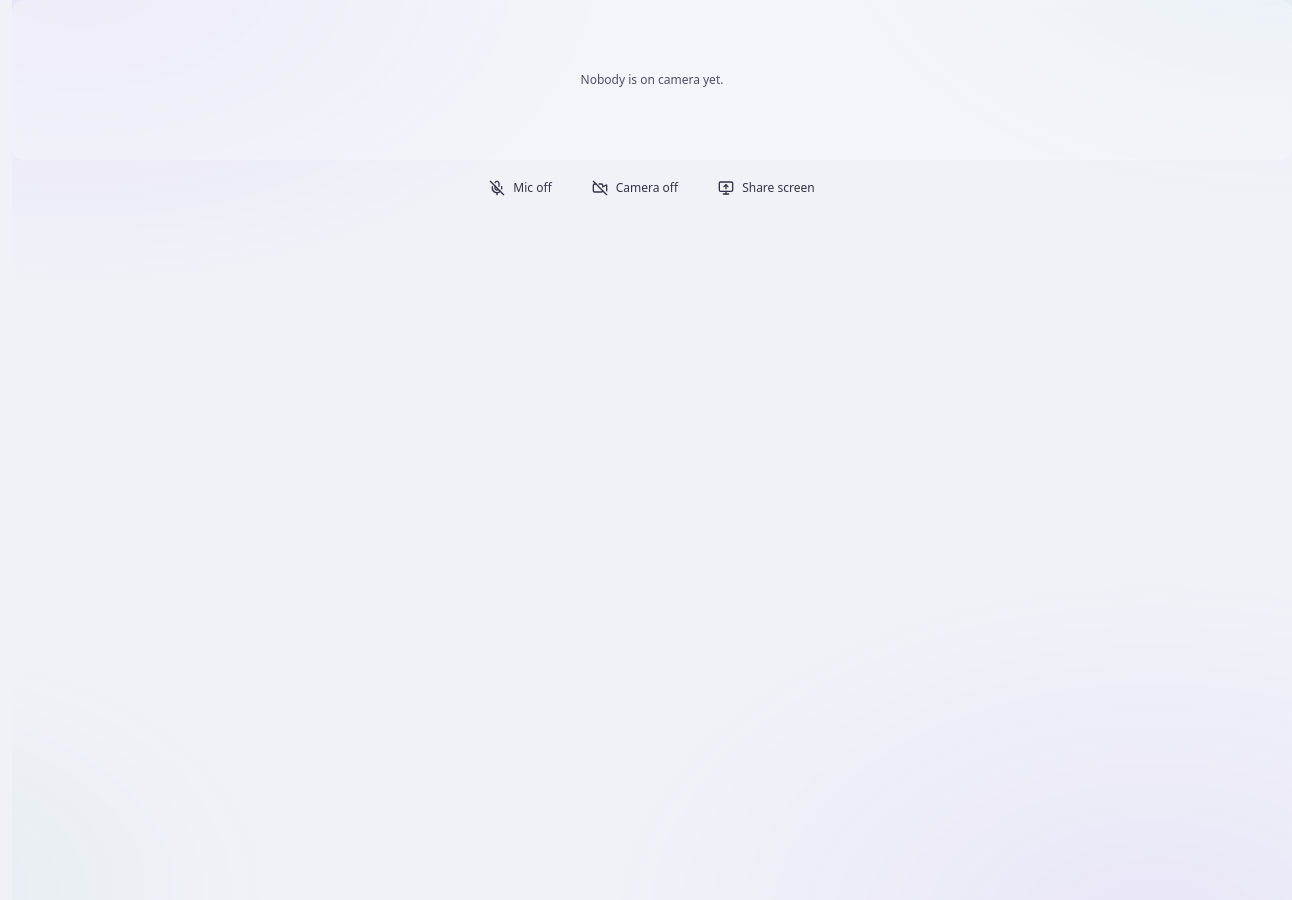
Test: GuestVideoStage screen sharing › keeps a browser screen-share rejection inline
What coordinates should you click on to do the following:
click the button "Share screen"
I would click on:
 (766, 188)
Its box is [702,168,831,208].
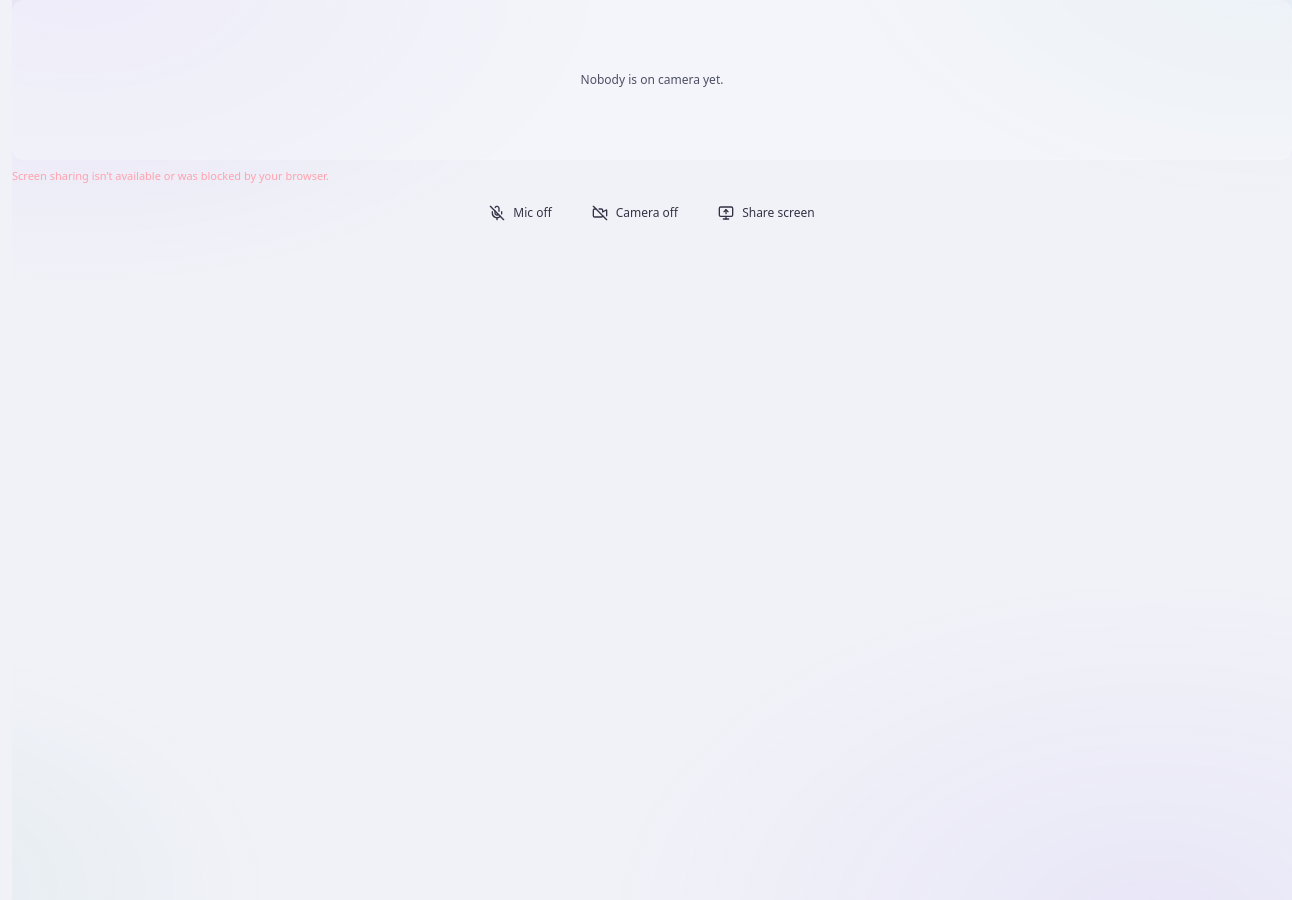
Expected: the message "Screen sharing isn’t available or was blocked by your browser." is shown, [12,168,329,183]
